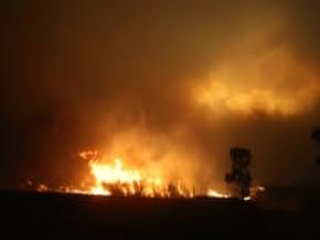fire: (71, 151, 215, 205)
